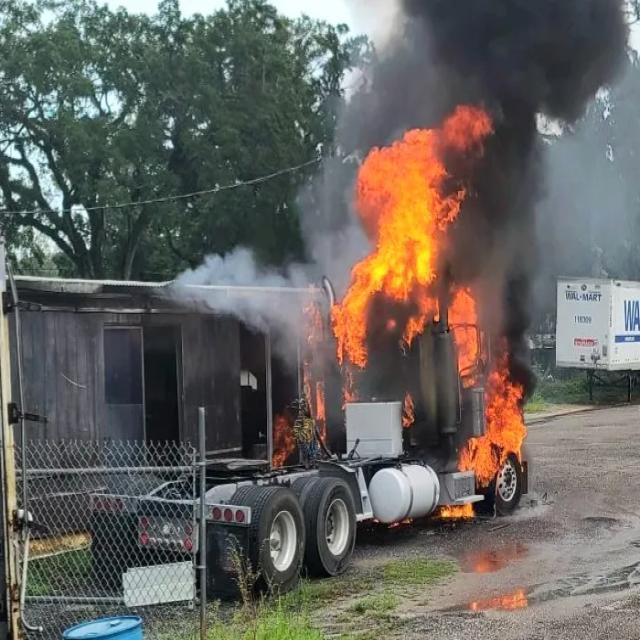Fire: (328, 98, 501, 384), (270, 294, 326, 468), (458, 370, 526, 490), (440, 503, 475, 516)
Smoke: (168, 0, 640, 393)
